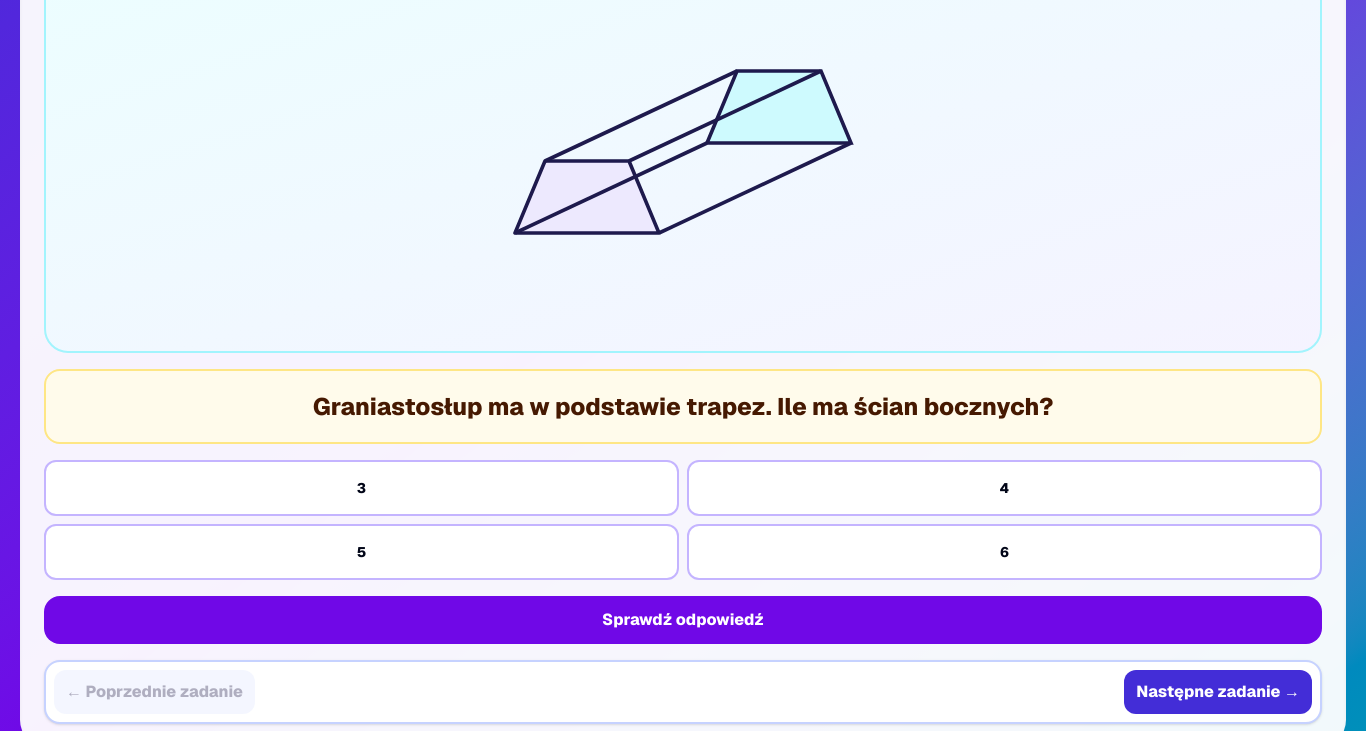
Test case: SolidReviewLessonLab › zachowuje neutralną informację po niepoprawnej odpowiedzi
(page scrolled)
Click the button "3" at (362, 488), box [44,460,679,516]
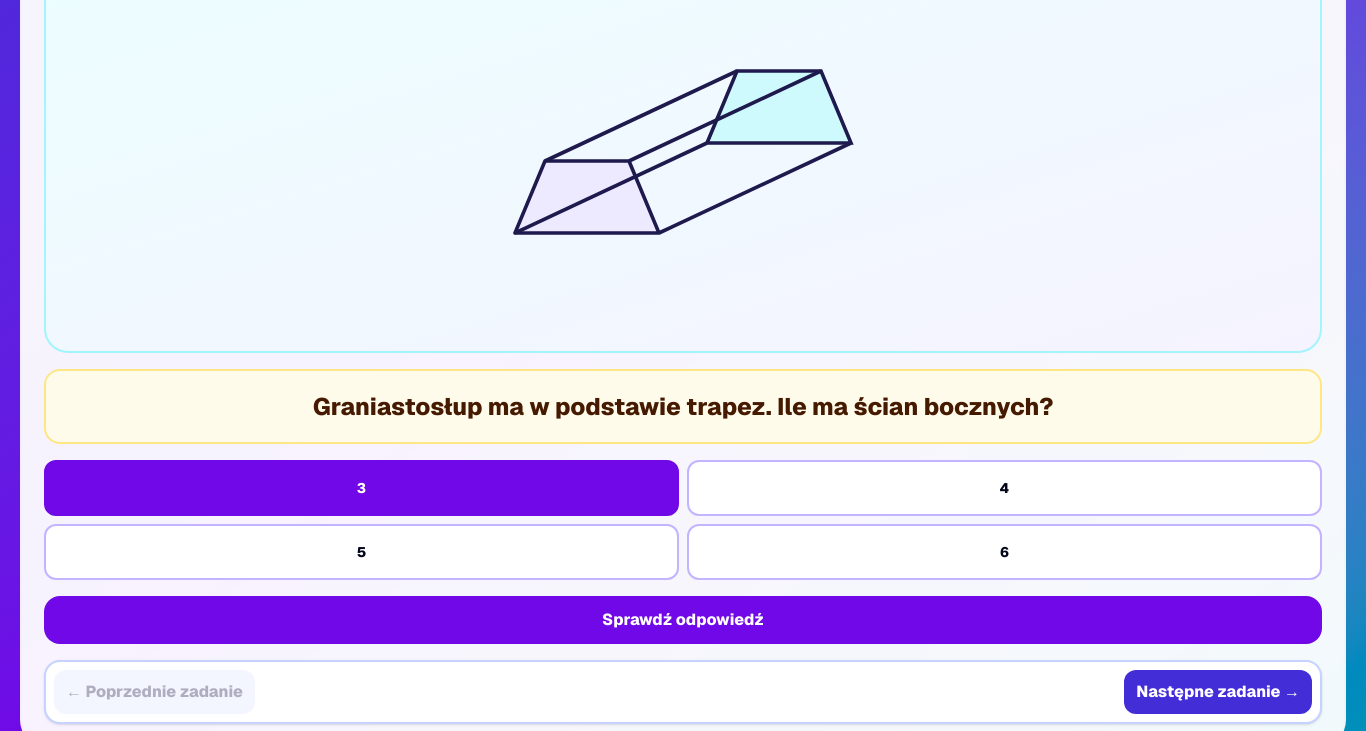
Click the button "Sprawdź odpowiedź" at (683, 620), box [44,596,1322,644]
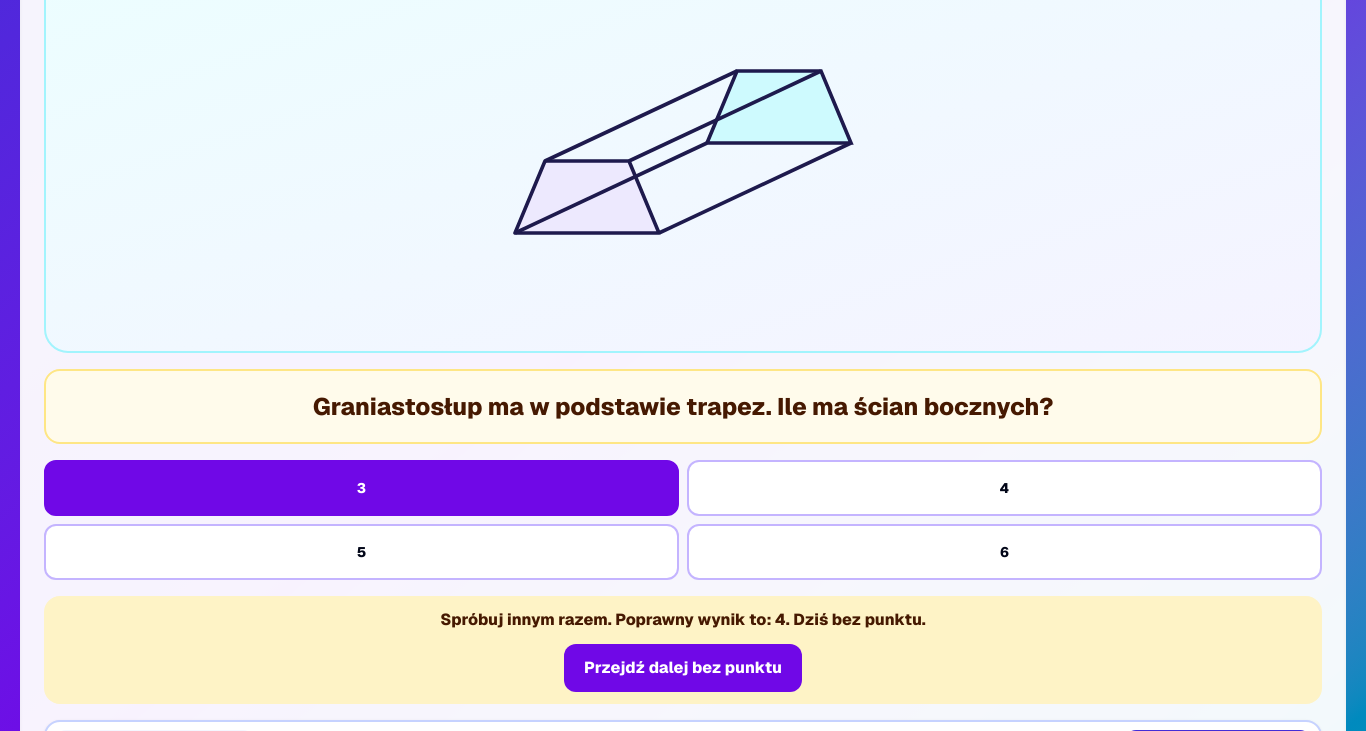
Check: the text "Spróbuj innym razem. Poprawny wynik to: 4. Dziś bez punktu." is shown, box [440,609,926,630]
Check: the button "Przejdź dalej bez punktu" is enabled, box [564,644,802,692]
